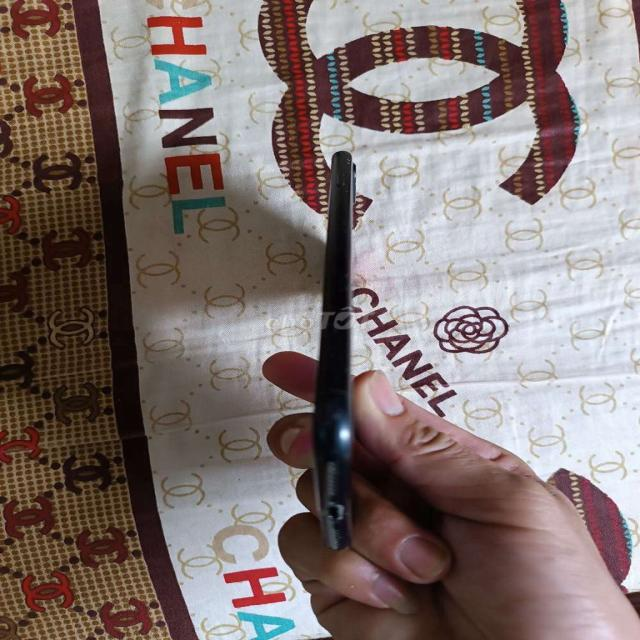gen_7_8: (306, 145, 402, 558)
